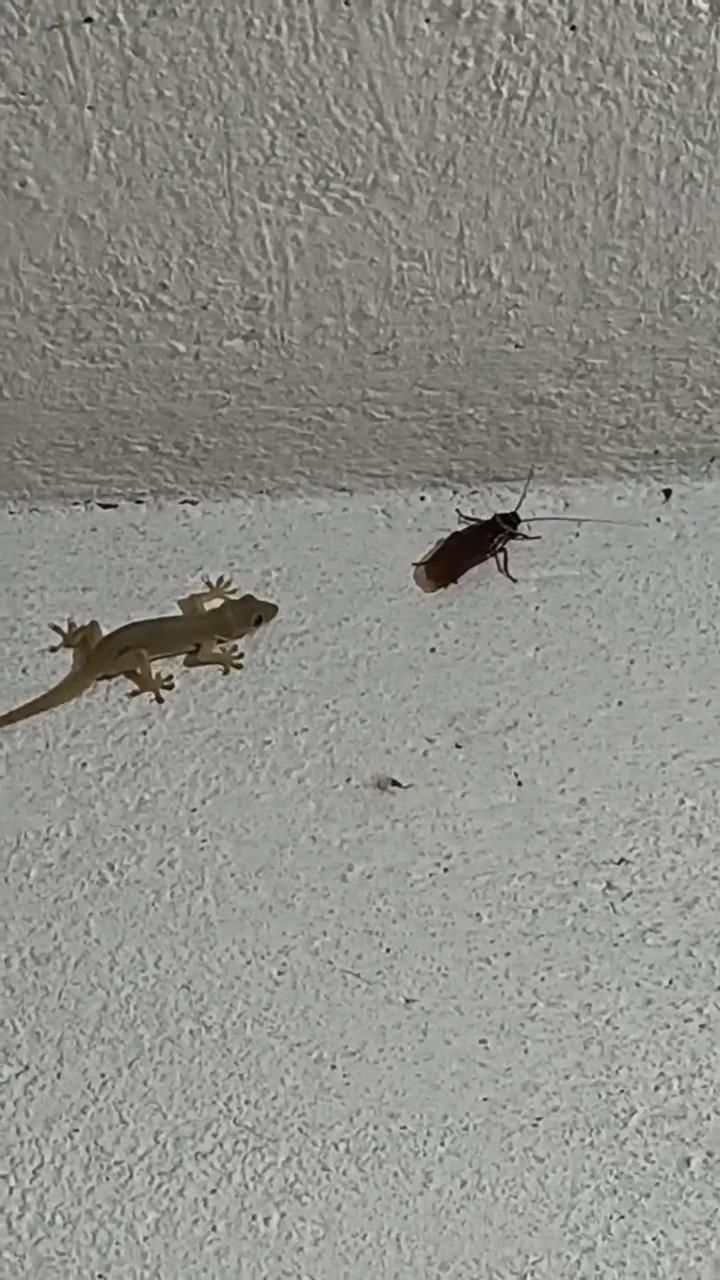cockroach: (401, 483, 575, 596)
lizard: (6, 560, 287, 730)
